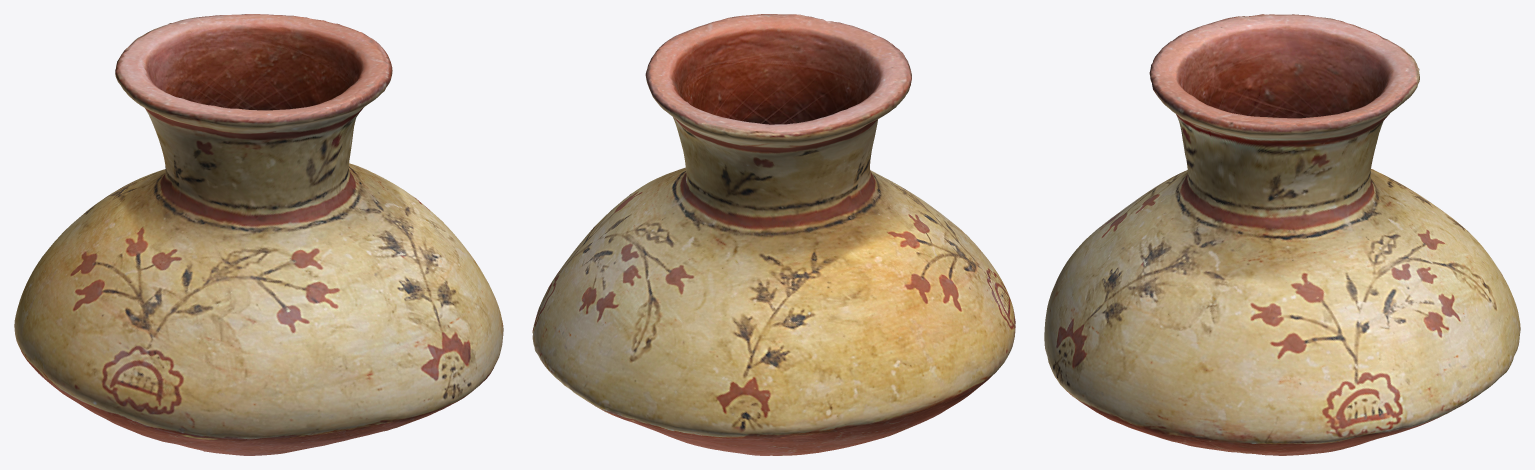
The model's file is Cerámica-Charapita.FBX.
The picture shows the model from 3 angles, left to right: view 1: azimuth 30°, elevation 25°; view 2: azimuth 150°, elevation 25°; view 3: azimuth 270°, elevation 25°; orthographic projection.
Visible parts, largest first — view 1: default; view 2: default; view 3: default.
Boxes of the visible parts, bbox=[...] form: default: bbox=[14, 14, 503, 455]; default: bbox=[532, 14, 1015, 455]; default: bbox=[1044, 14, 1520, 455].
Bounding box in the file's own units: 27.19 × 21.33 × 26.81.
